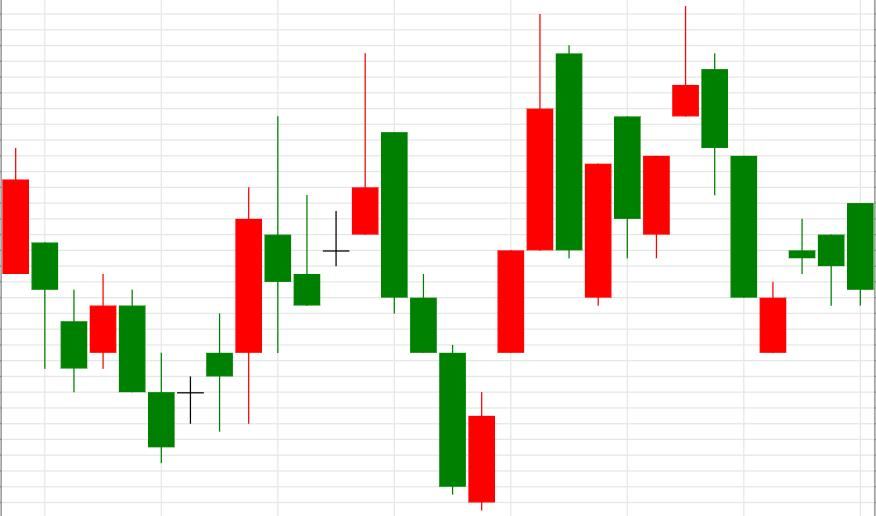three_black_crows_fall: (294, 52, 467, 494)
